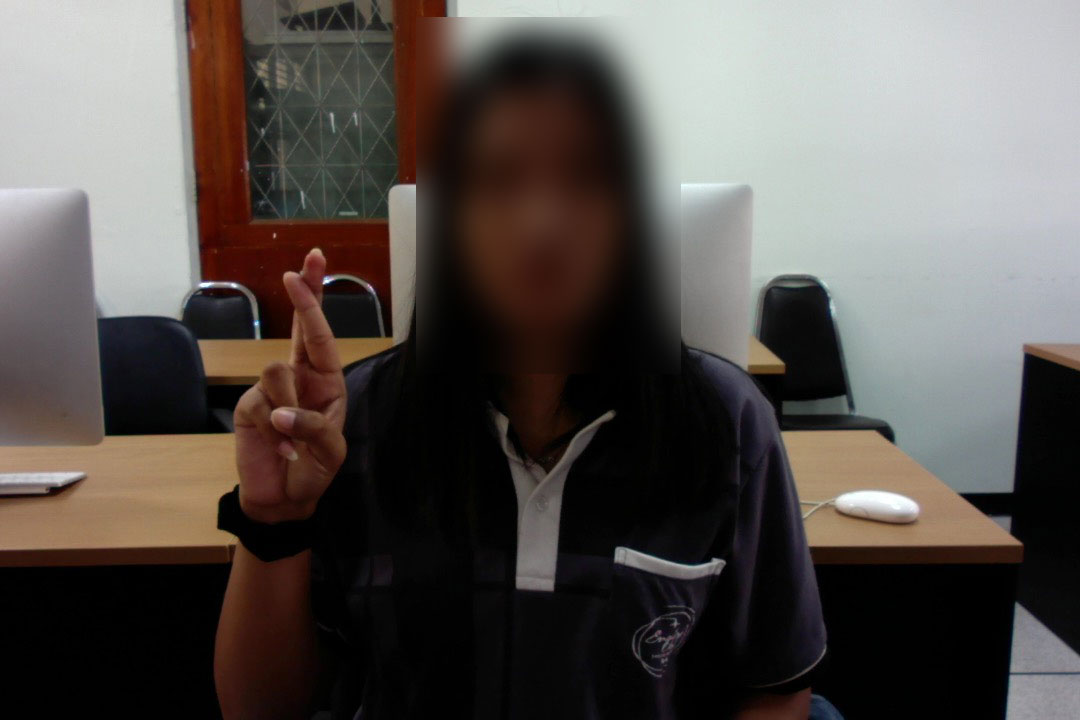rao: (216, 247, 363, 520)
